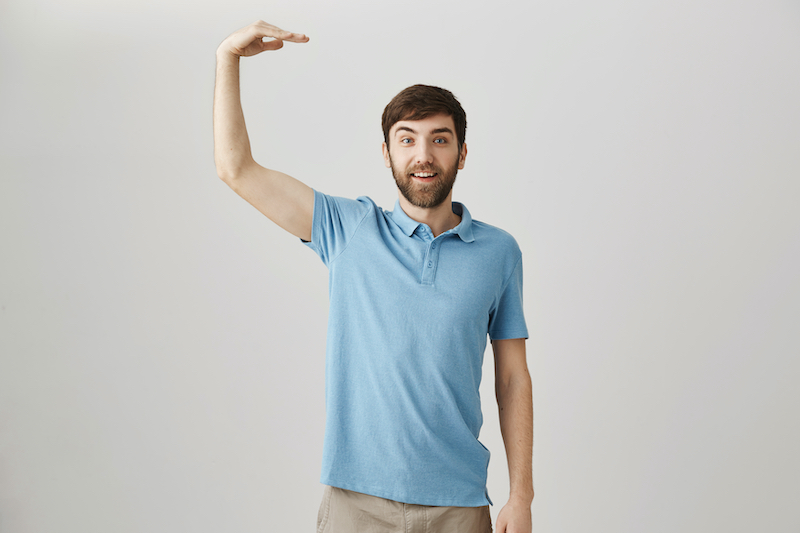sansCasque: (234, 16, 585, 344)
